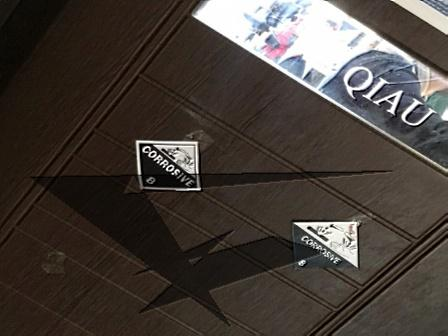corrosive: (291, 220, 362, 272), (136, 139, 204, 193)
